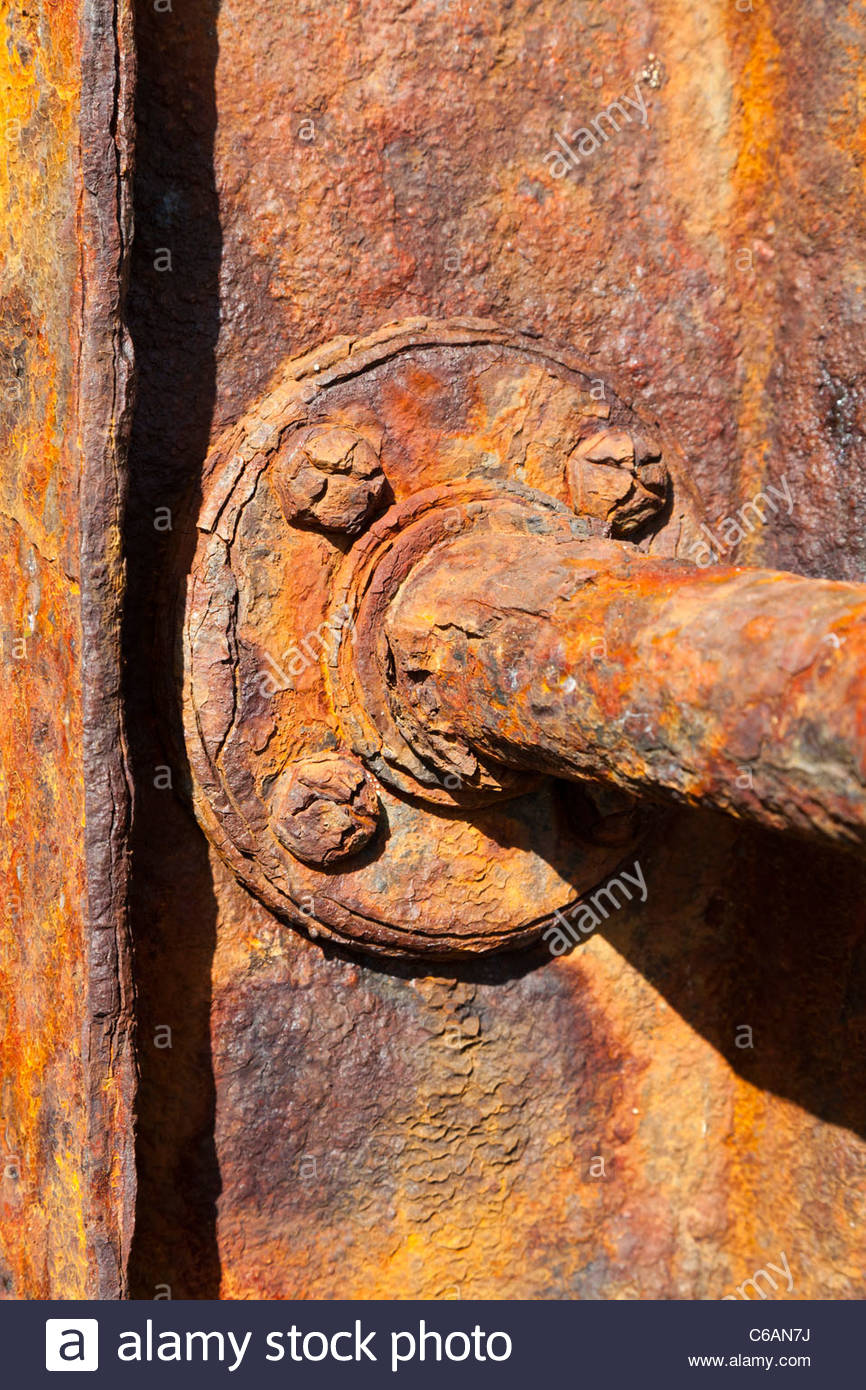rust: (8, 9, 866, 1298), (157, 346, 866, 971)
